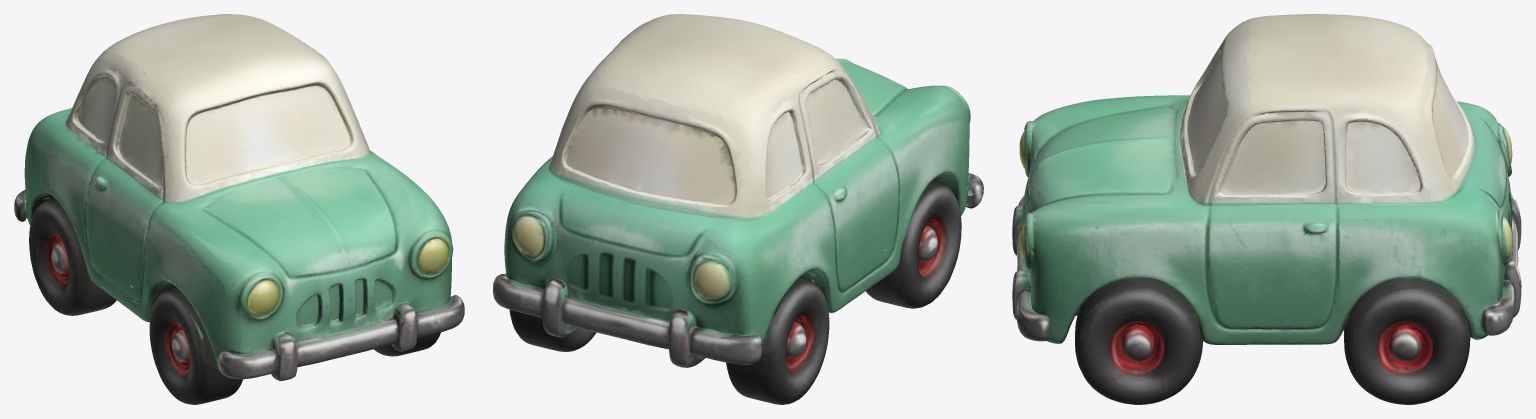
The model's file is pullback-car.glb.
The picture shows the model from 3 angles, left to right: view 1: azimuth 30°, elevation 25°; view 2: azimuth 150°, elevation 25°; view 3: azimuth 270°, elevation 25°; orthographic projection. The views are drawn at different scales.
Visible parts, largest first — view 1: geometry_0; view 2: geometry_0; view 3: geometry_0.
Part boxes in pixels (x1,y1,x2,y2): geometry_0: (14,14,464,404); geometry_0: (493,14,983,404); geometry_0: (1012,14,1521,404).
Bounding box in the file's own units: 0.13 × 0.1351 × 0.2072.
1 material, 1 textured.
